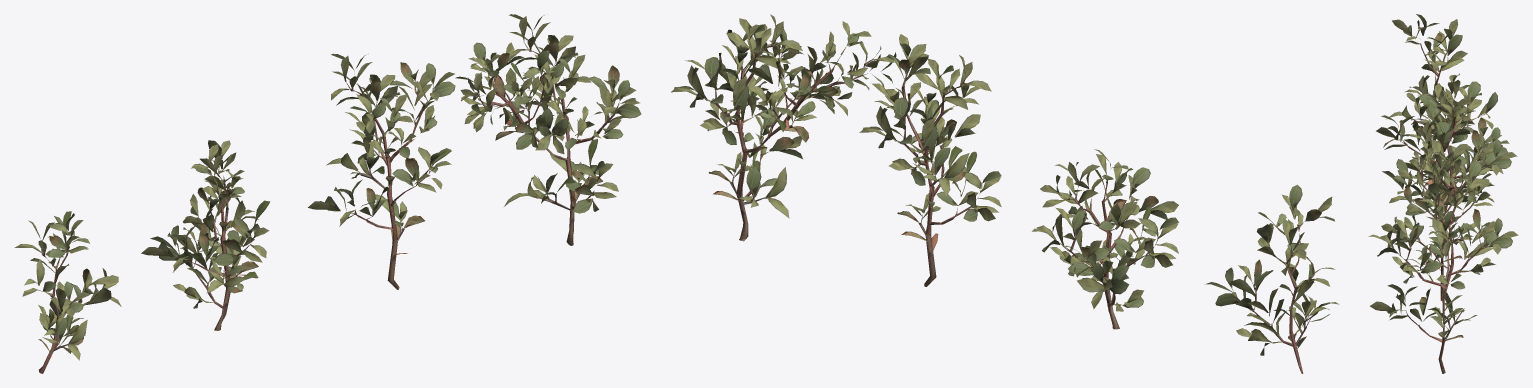
Rendered from shrub_04.glb.
The picture shows the model from 3 angles, left to right: view 1: azimuth 30°, elevation 25°; view 2: azimuth 150°, elevation 25°; view 3: azimuth 270°, elevation 25°; orthographic projection. The views are drawn at different scales.
Parts seen in each view (by area): view 1: shrub_04; view 2: shrub_04; view 3: shrub_04.
Boxes of the visible parts, <box> form: shrub_04: <box>14,14,641,373</box>; shrub_04: <box>671,14,1339,373</box>; shrub_04: <box>1368,14,1518,373</box>.
Bounding box in the file's own units: 0.5837 × 0.2192 × 0.1461.
1 material, 1 textured.
